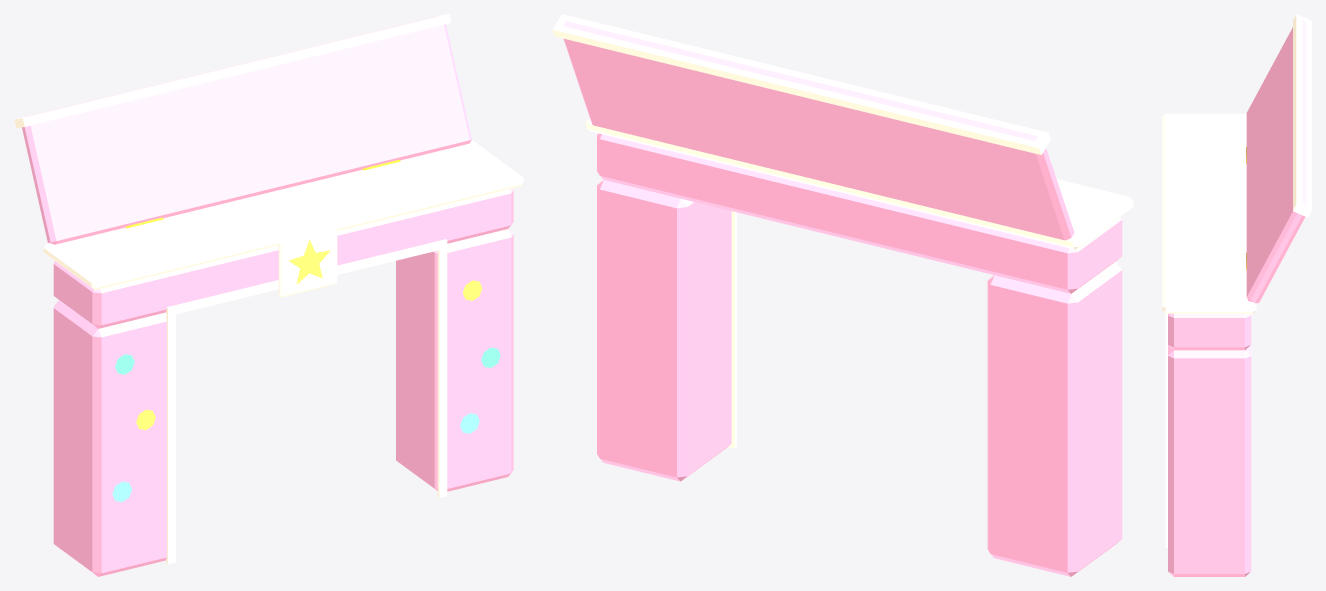
File: toybox-lid.glb
3 renders of one model, left to right at view 1: azimuth 30°, elevation 25°; view 2: azimuth 150°, elevation 25°; view 3: azimuth 270°, elevation 25°, orthographic. The views are drawn at different scales.
Parts seen in each view (by area): view 1: toybox-lid; view 2: toybox-lid; view 3: toybox-lid.
Boxes of the visible parts, x1,y1,x2,y2 form: toybox-lid: (14,14,523,576); toybox-lid: (552,14,1133,576); toybox-lid: (1162,14,1311,576).
Bounding box in the file's own units: 16.4 × 14.95 × 5.4.
